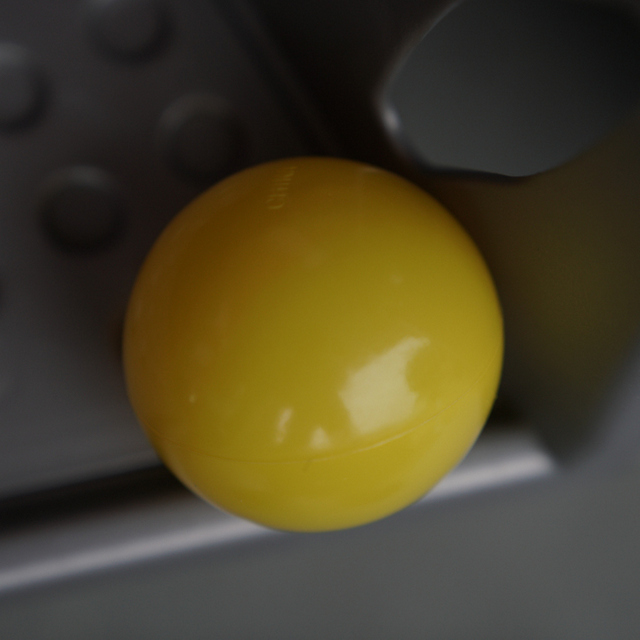Ball: (114, 162, 504, 528)
